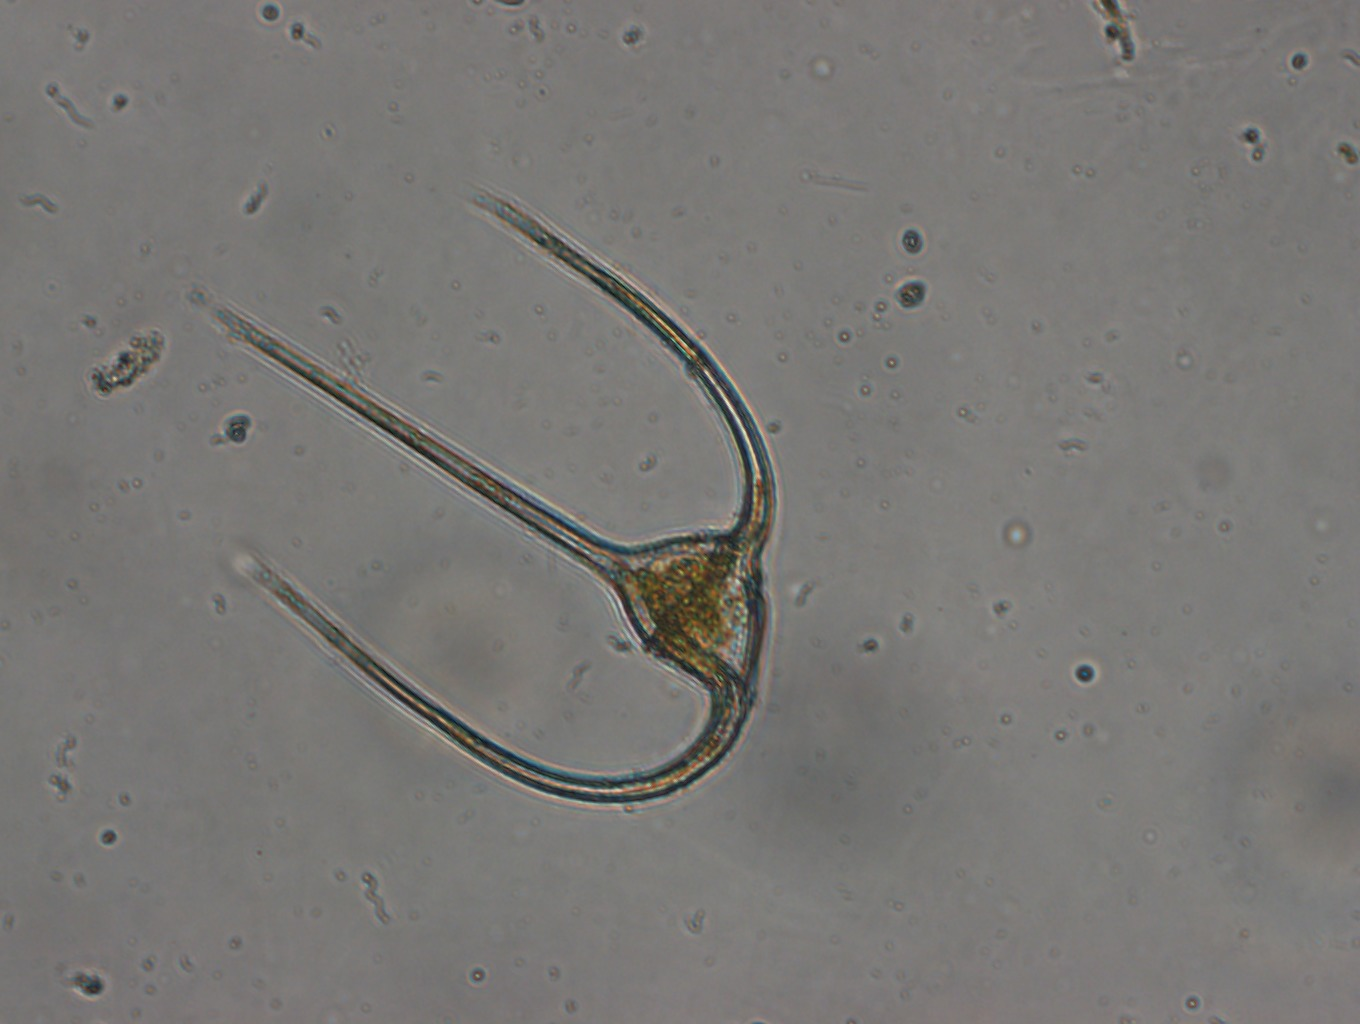ceratium trichoceros: (183, 172, 794, 825)
